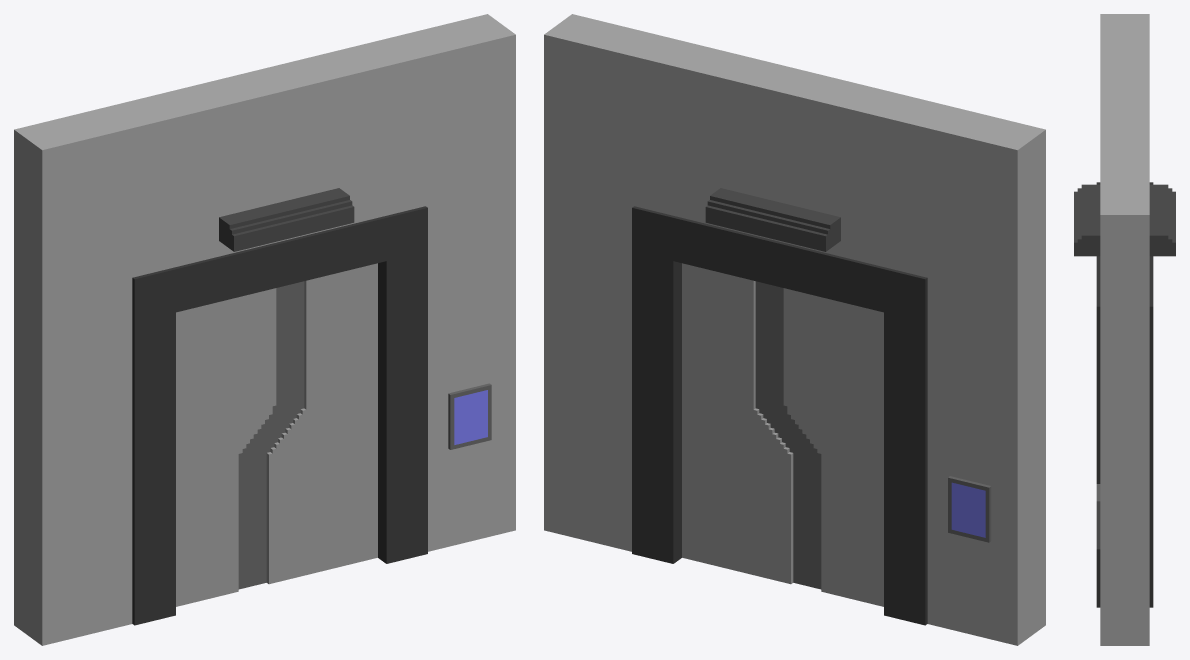
File: Operating_room_Door6-1-1.fbx
The picture shows the model from 3 angles, left to right: view 1: azimuth 30°, elevation 25°; view 2: azimuth 150°, elevation 25°; view 3: azimuth 270°, elevation 25°; orthographic projection. The views are drawn at different scales.
Parts seen in each view (by area): view 1: Operating room Door6-1-1.001, Operating room Door6-1-1.006, Operating room Door6-1-1.005, Operating room Door6-1-1.007; view 2: Operating room Door6-1-1.001, Operating room Door6-1-1.006, Operating room Door6-1-1.005, Operating room Door6-1-1.004; view 3: Operating room Door6-1-1.001.
Part boxes in pixels (bbox=[...]): Operating room Door6-1-1.001: bbox=[14, 14, 515, 645]; Operating room Door6-1-1.006: bbox=[251, 263, 377, 586]; Operating room Door6-1-1.005: bbox=[176, 285, 289, 606]; Operating room Door6-1-1.007: bbox=[454, 390, 487, 444]; Operating room Door6-1-1.001: bbox=[544, 14, 1045, 645]; Operating room Door6-1-1.006: bbox=[682, 263, 808, 586]; Operating room Door6-1-1.005: bbox=[770, 285, 883, 606]; Operating room Door6-1-1.004: bbox=[951, 482, 985, 537]; Operating room Door6-1-1.001: bbox=[1074, 14, 1175, 645].
Bounding box in the file's own units: 12.6 × 12.6 × 2.7.
